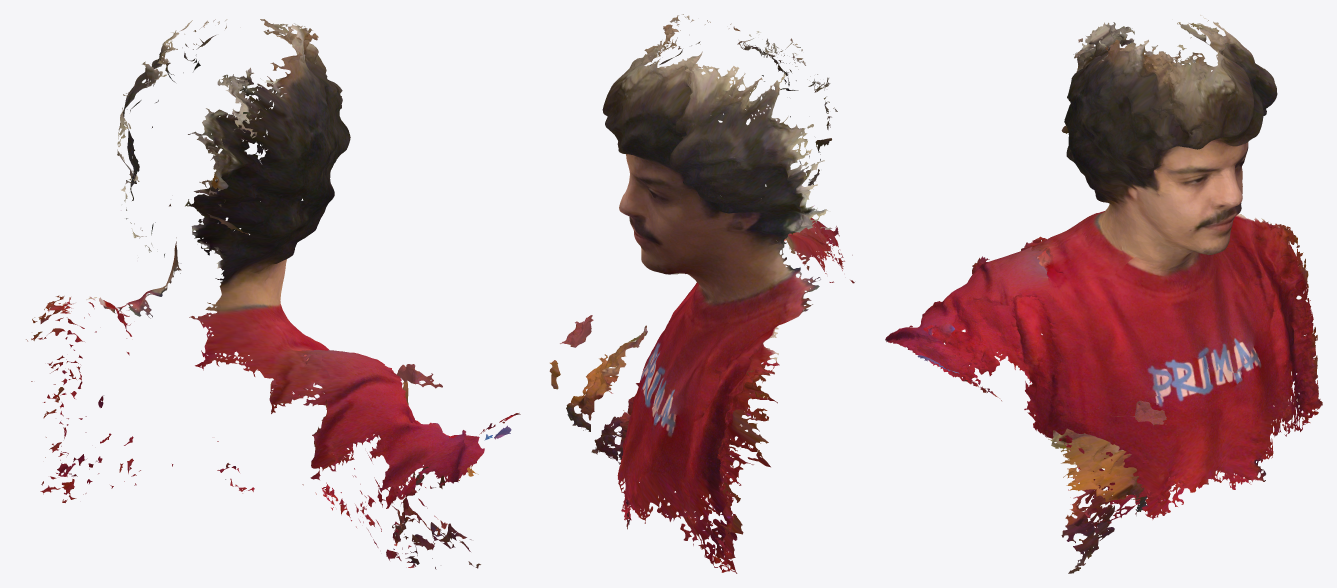
The model's file is scanIgor.glb.
3 views of the same model, side by side, from view 1: azimuth 30°, elevation 25°; view 2: azimuth 150°, elevation 25°; view 3: azimuth 270°, elevation 25° (orthographic). The views are drawn at different scales.
Bounding box in the file's own units: 0.3981 × 0.6271 × 0.5268.
Materials: 1 (1 with a texture image).
